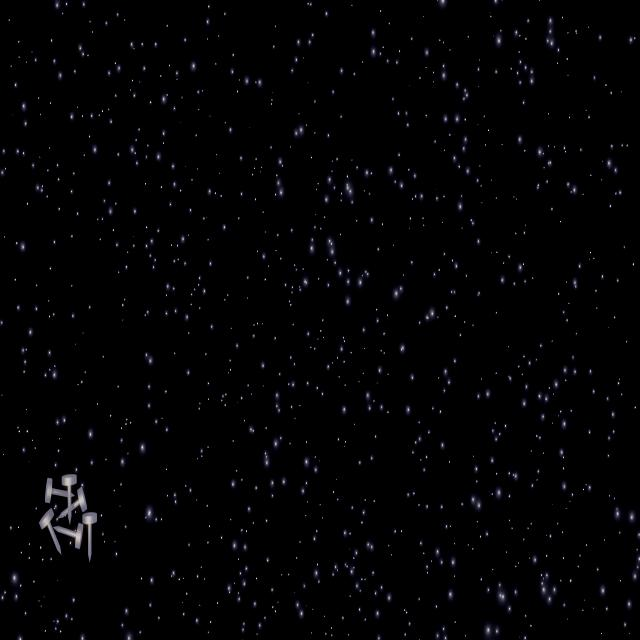large_debris: (31, 471, 102, 570)
